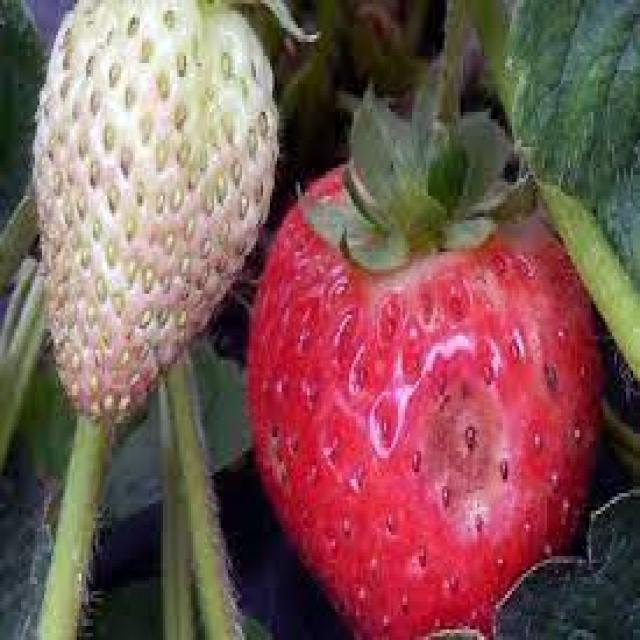Mancha negra Antracnosis: (250, 156, 590, 638)
